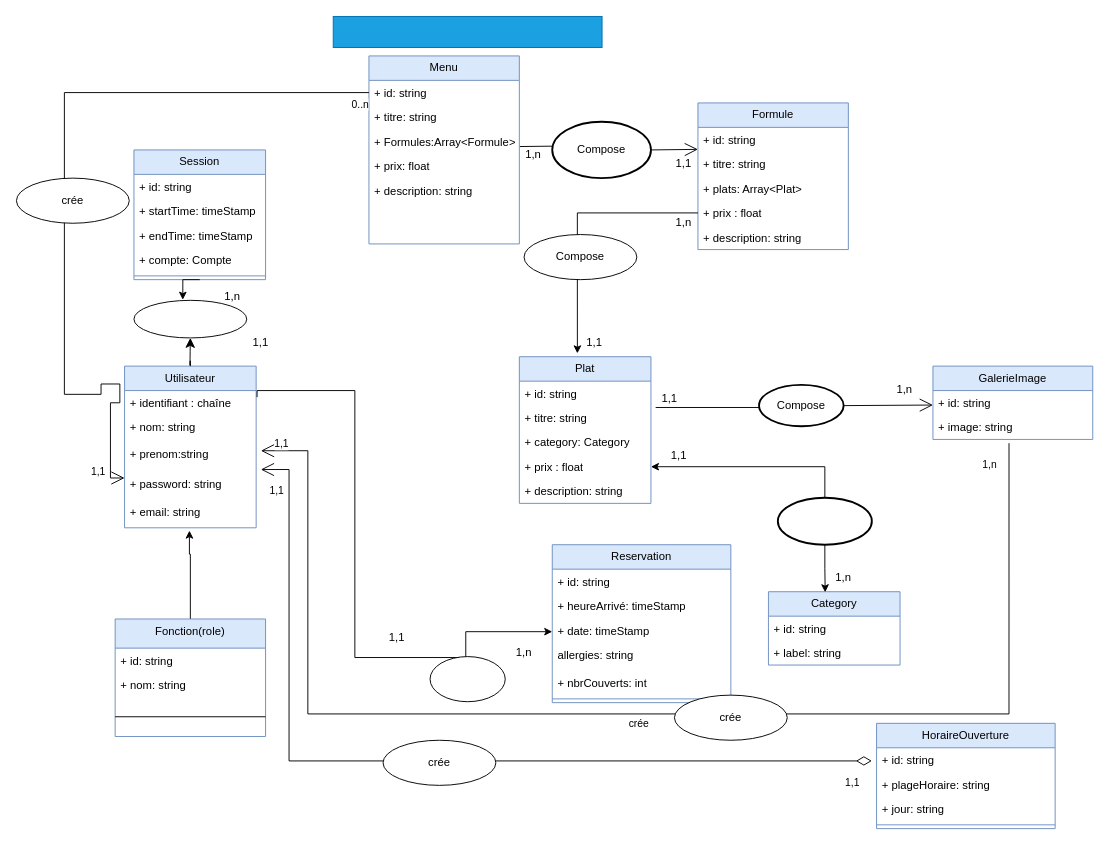
Image size: 1109x845. Some labels were removed from this diagram. Each missing label, with the centre of its shape:
Classe: the point at 824,520
Diagramme de Classe modelé conceptuel (MCD): the point at 467,31
Fait: the point at 467,679
Se connecter: the point at 190,318
